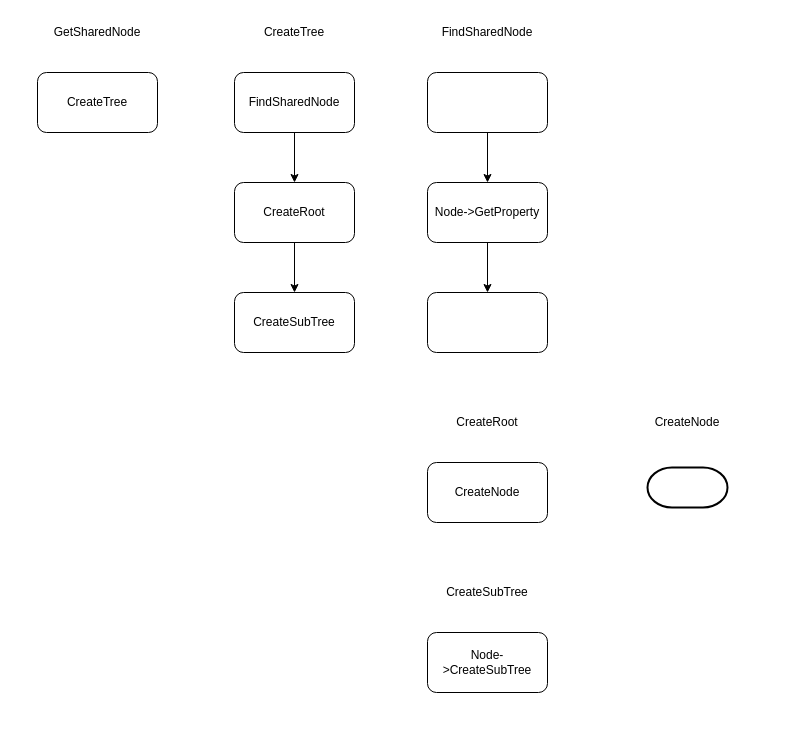
The diagram is 785 pixels wide and 735 high, and some of its shapes have lost their labels. Here are the shapes that lost their labels. From the top down, the centre of each, then its label:
At (487,102): "path.py CheckPathName".
At (487,322): "Node->GetAllDescendant".
